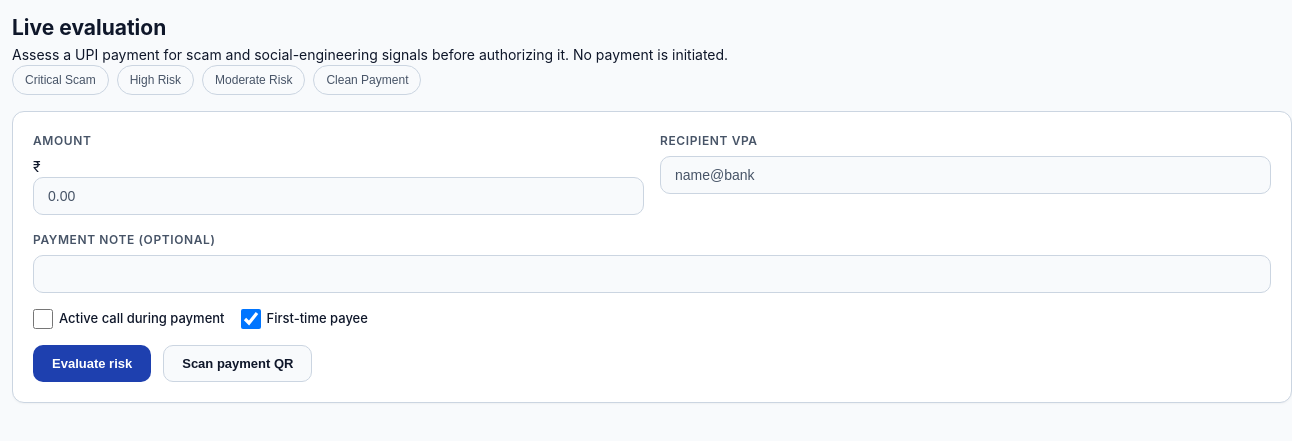
Test: submitting empty amount shows error
The width and height of the screenshot is (1292, 441).
What coordinates should you click on to do the following:
click the button "Evaluate risk"
I would click on:
 (92, 363)
Its box is [33,344,151,382].
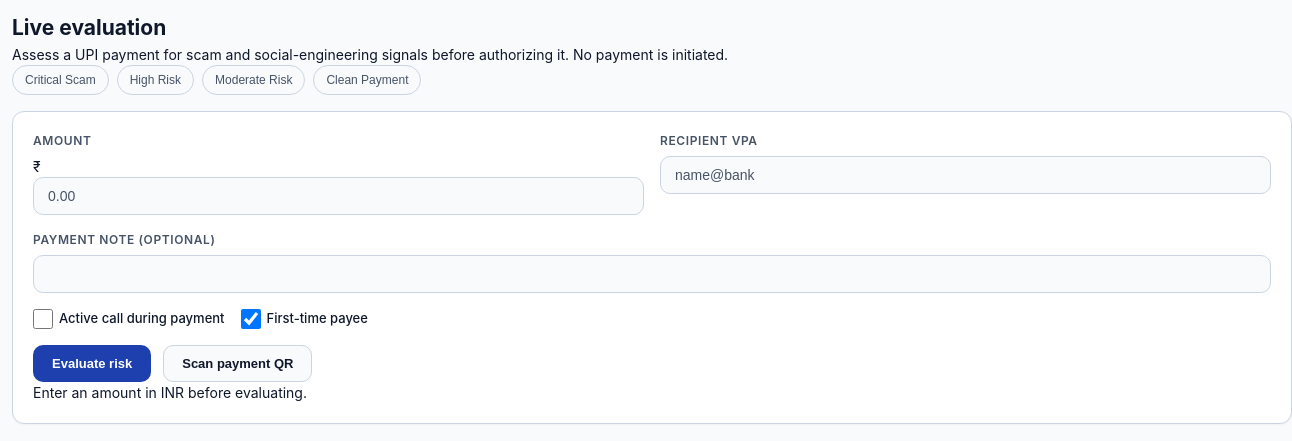
Expected: the message shows "Enter an amount", [33,384,307,400]
